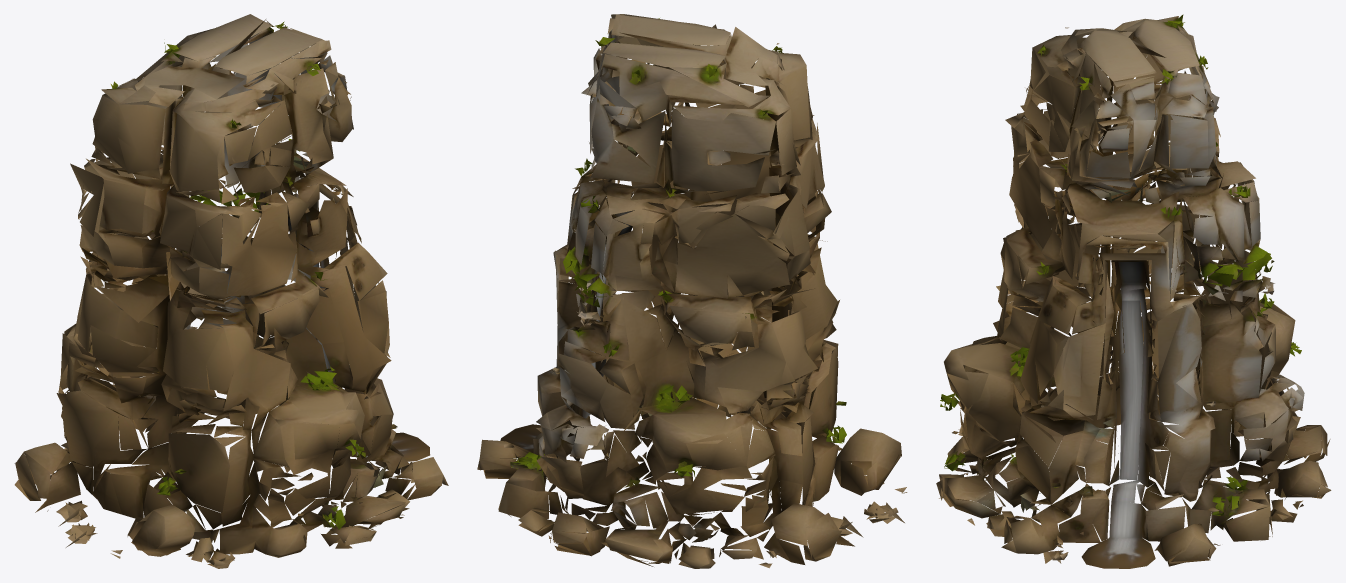
File: ch7_waterfall_cliff_LOD2.glb
3 views of the same model, side by side, from view 1: azimuth 30°, elevation 25°; view 2: azimuth 150°, elevation 25°; view 3: azimuth 270°, elevation 25° (orthographic). The views are drawn at different scales.
Visible parts, largest first — view 1: tripo_node_9d7ade54-06a1-4f0d-8d2b-cd53d888e29c; view 2: tripo_node_9d7ade54-06a1-4f0d-8d2b-cd53d888e29c; view 3: tripo_node_9d7ade54-06a1-4f0d-8d2b-cd53d888e29c.
Boxes of the visible parts, bbox=[...] form: tripo_node_9d7ade54-06a1-4f0d-8d2b-cd53d888e29c: bbox=[14, 14, 448, 568]; tripo_node_9d7ade54-06a1-4f0d-8d2b-cd53d888e29c: bbox=[477, 14, 907, 568]; tripo_node_9d7ade54-06a1-4f0d-8d2b-cd53d888e29c: bbox=[936, 14, 1331, 568].
Bounding box in the file's own units: 0.8854 × 1.02 × 0.8019.
1 material, 1 textured.
